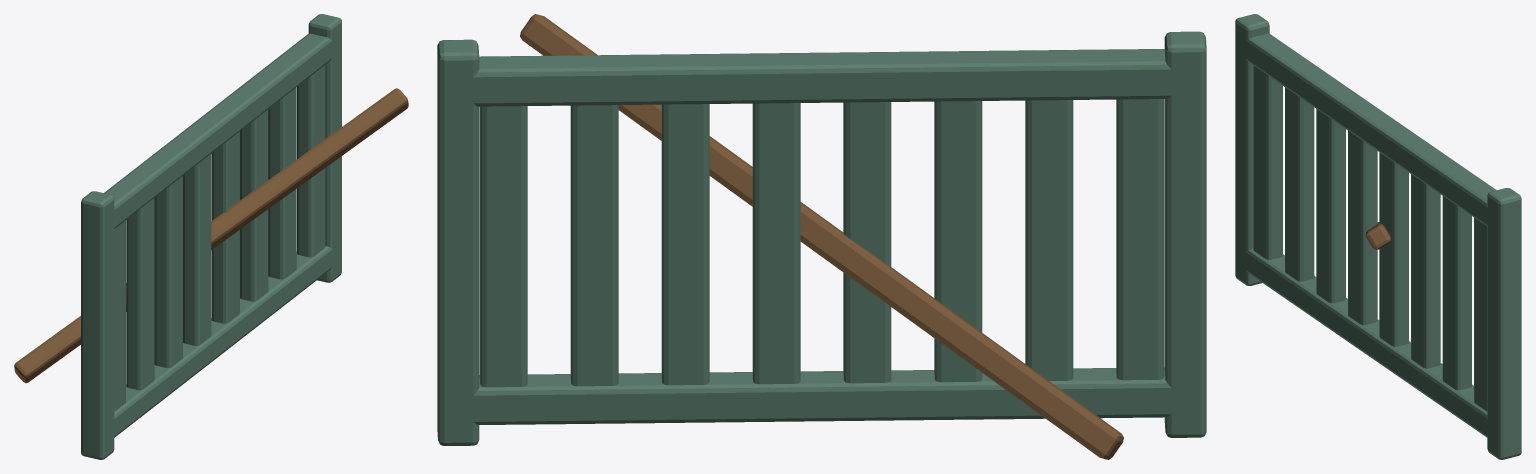
File: SM_IntellectualGrandpaHouse_Gate.fbx
3 views of the same model, side by side, from view 1: azimuth 30°, elevation 25°; view 2: azimuth 150°, elevation 25°; view 3: azimuth 270°, elevation 25° (orthographic). The views are drawn at different scales.
Parts seen in each view (by area): view 1: SM_IntellectualGrandpaHouse_Gate; view 2: SM_IntellectualGrandpaHouse_Gate; view 3: SM_IntellectualGrandpaHouse_Gate.
Part boxes in pixels (left/top/right/bottom): SM_IntellectualGrandpaHouse_Gate: left=14, top=14, right=408, bottom=459; SM_IntellectualGrandpaHouse_Gate: left=437, top=14, right=1206, bottom=459; SM_IntellectualGrandpaHouse_Gate: left=1235, top=14, right=1521, bottom=459.
Size of what is drawn, in the model's own units: 167 by 105 by 105.
